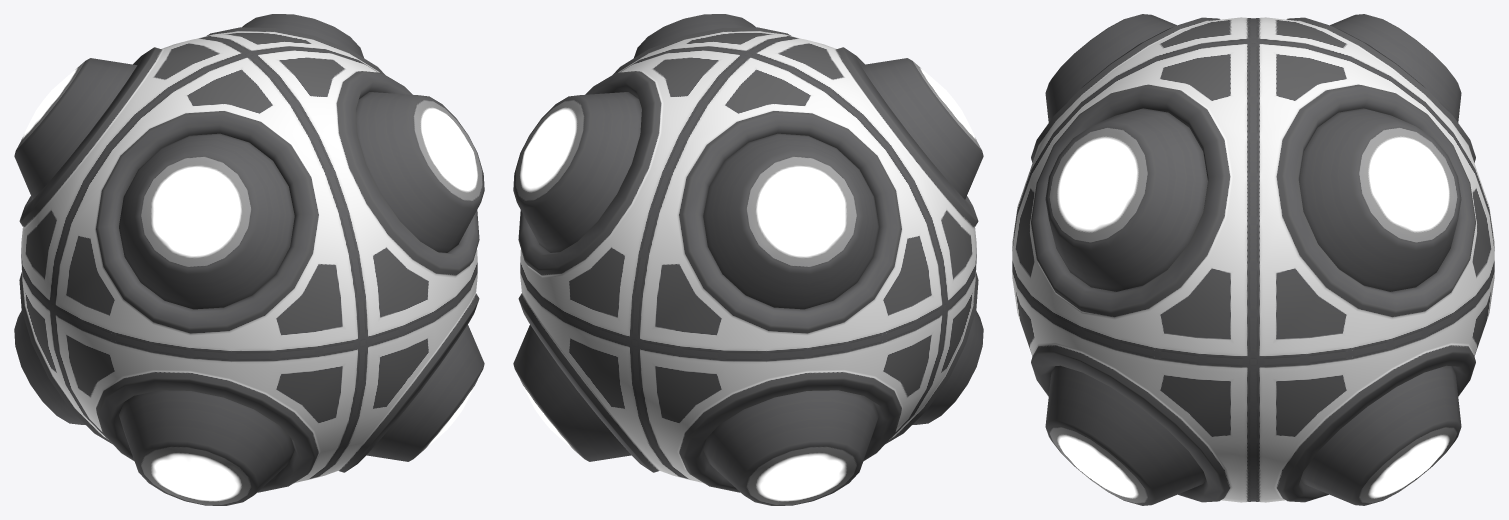
File: SciFiGrenade02.FBX
3 views of the same model, side by side, from view 1: azimuth 30°, elevation 25°; view 2: azimuth 150°, elevation 25°; view 3: azimuth 270°, elevation 25° (orthographic). The views are drawn at different scales.
Parts seen in each view (by area): view 1: SciFiGrenade02; view 2: SciFiGrenade02; view 3: SciFiGrenade02.
Boxes of the visible parts, x1,y1,x2,y2 form: SciFiGrenade02: (14, 14, 484, 505); SciFiGrenade02: (513, 14, 983, 505); SciFiGrenade02: (1012, 14, 1494, 505).
Size of what is drawn, in the model's own units: 0.1416 by 0.1416 by 0.1416.
